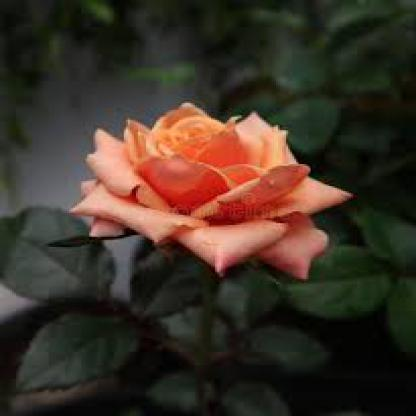Rose-Mawar: (68, 98, 360, 284)
